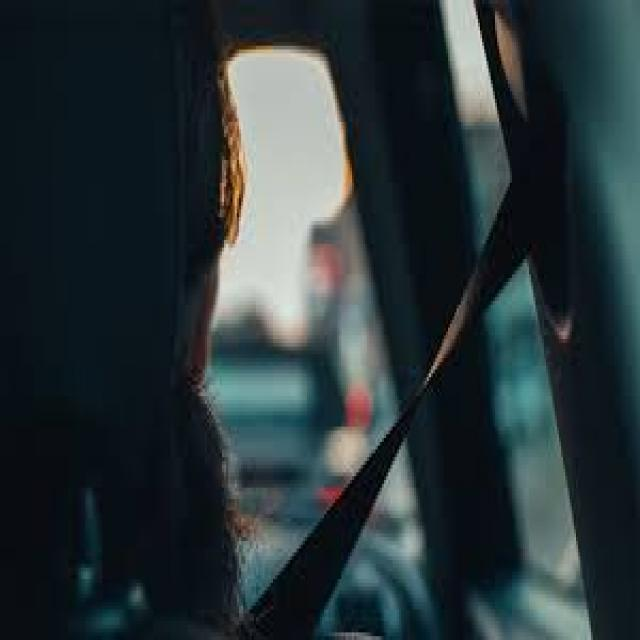seatbelt: (252, 99, 550, 636)
